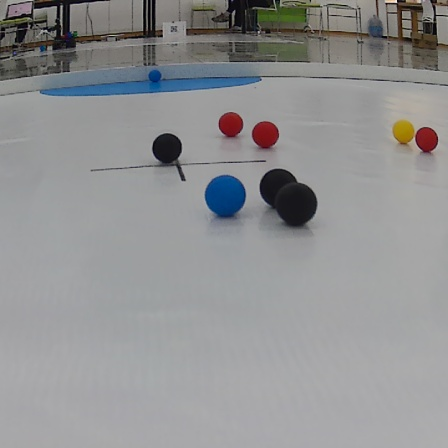black: (271, 186, 319, 226), (256, 166, 299, 203), (150, 132, 188, 162)
blue: (203, 170, 249, 219), (148, 69, 166, 83)
blue_base: (37, 77, 261, 93)
red: (217, 110, 248, 139), (411, 128, 440, 158)
yellow: (392, 118, 415, 145)
